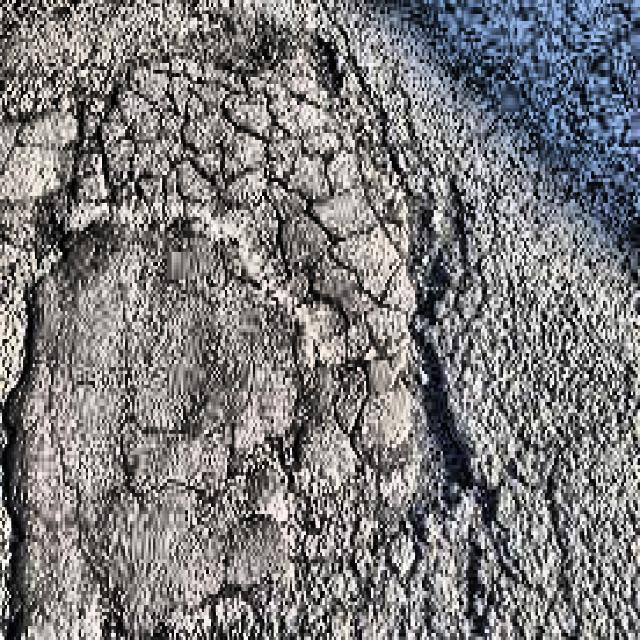alligator_cracks: (96, 82, 360, 218)
